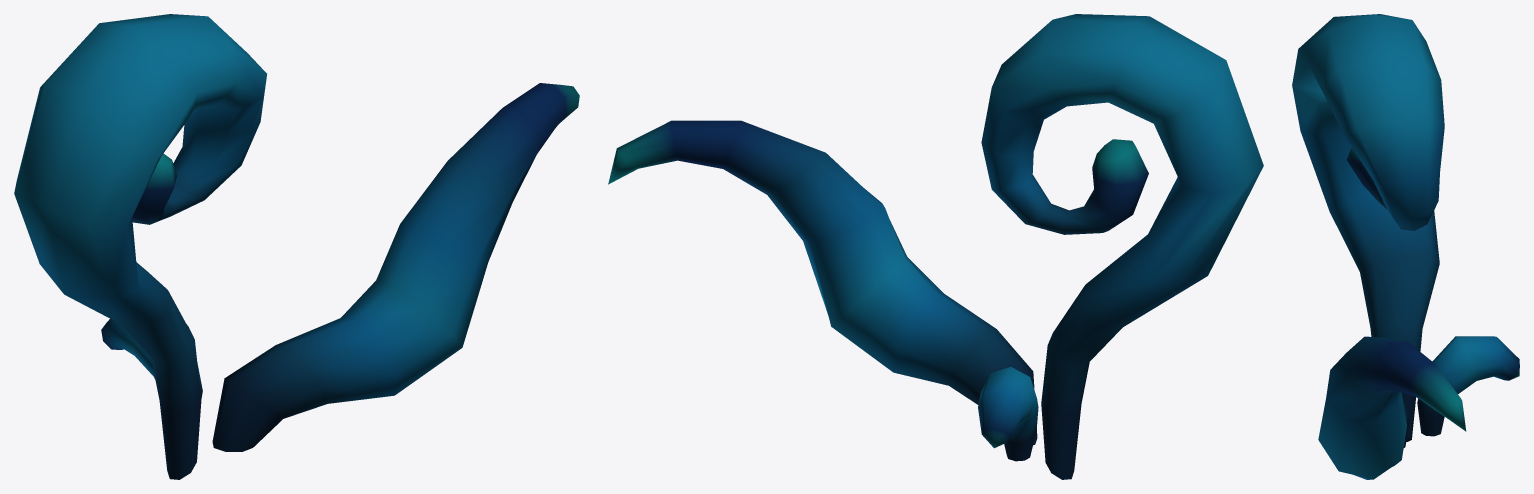
File: Alien_Ivy06.fbx
3 renders of one model, left to right at view 1: azimuth 30°, elevation 25°; view 2: azimuth 150°, elevation 25°; view 3: azimuth 270°, elevation 25°, orthographic. The views are drawn at different scales.
Parts seen in each view (by area): view 1: Alien_Ivy06; view 2: Alien_Ivy06; view 3: Alien_Ivy06.
Part boxes in pixels (<box>): Alien_Ivy06: <box>14,14,579,479</box>; Alien_Ivy06: <box>608,14,1263,479</box>; Alien_Ivy06: <box>1292,14,1519,479</box>.
Size of the model in its own units: 2579 by 1921 by 976.
